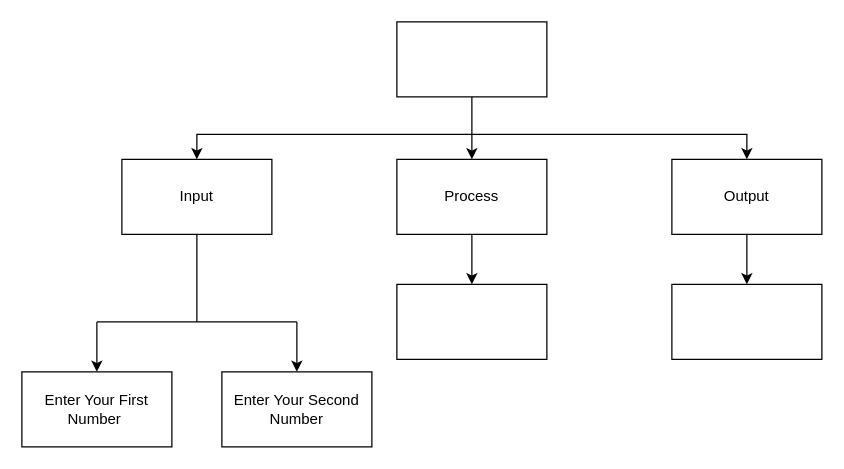
This 844x469 diagram has some shape labels left out. The shapes that lost their labels are listed below. From the top down, each one's centre as x and y in pixels, then its label:
At point 471,59: "Start".
At point 471,321: "First + Second = Total".
At point 746,321: "Show Total".
